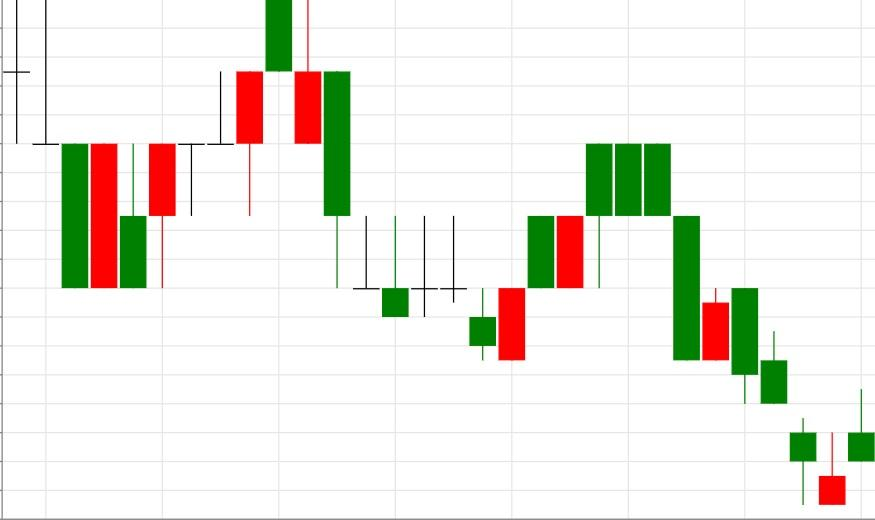bullish_engulfing_rise: (265, 0, 526, 361)
